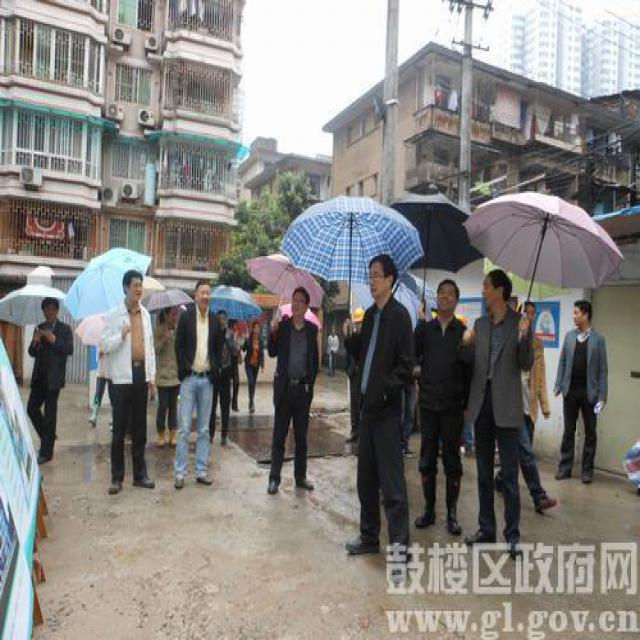head: (480, 264, 516, 317), (366, 252, 398, 303), (433, 274, 460, 317), (570, 295, 597, 336), (119, 264, 144, 308), (191, 274, 213, 310), (288, 284, 310, 320), (40, 293, 59, 327)
person: (346, 247, 429, 573), (460, 264, 538, 567), (96, 257, 168, 511), (412, 274, 481, 538), (163, 274, 229, 502), (545, 290, 615, 500), (262, 281, 324, 511), (20, 296, 75, 480)
